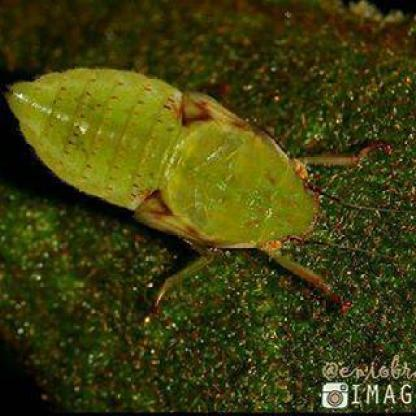green-leafhopper: (5, 66, 395, 312)
